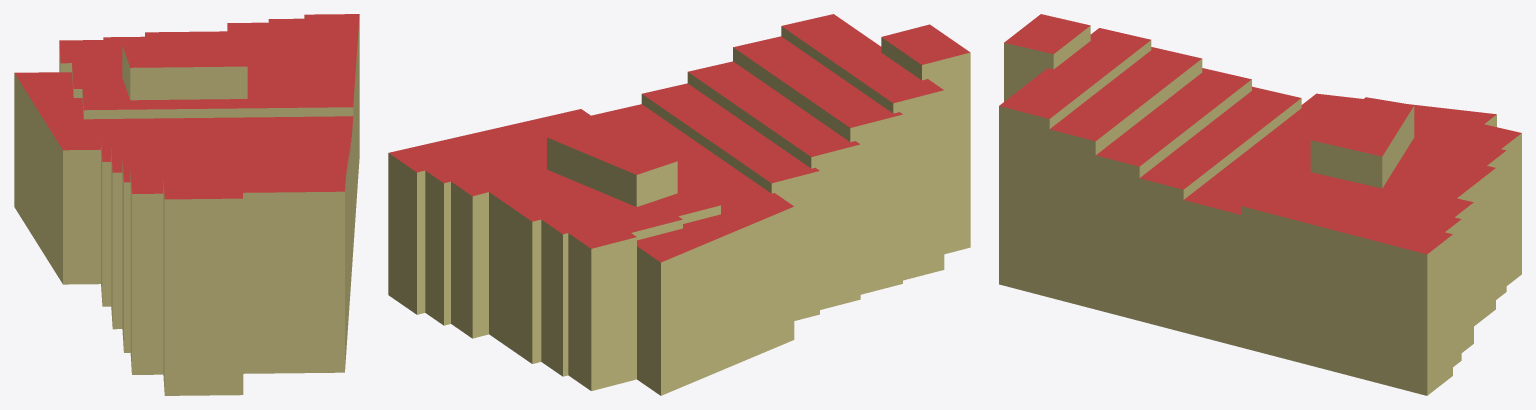
The picture shows the model from 3 angles, left to right: view 1: azimuth 30°, elevation 25°; view 2: azimuth 150°, elevation 25°; view 3: azimuth 270°, elevation 25°; orthographic projection.
Parts seen in each view (by area): view 1: group_18, group_3, group_9, group_24, group_23, group_5, group_17, group_6, group_4, group_11, group_20, group_15 (+4 smaller); view 2: group_6, group_24, group_3, group_12, group_23, group_18, group_15, group_9, group_21, group_20, group_14, group_11 (+4 smaller); view 3: group_6, group_3, group_12, group_18, group_15, group_24, group_21, group_23, group_20, group_14, group_11, group_17 (+4 smaller).
Part boxes in pixels (left/top/right/bottom): group_18: left=130, top=169, right=346, bottom=374; group_3: left=59, top=14, right=359, bottom=110; group_9: left=163, top=179, right=243, bottom=395; group_24: left=14, top=73, right=353, bottom=284; group_23: left=14, top=72, right=353, bottom=150; group_5: left=122, top=46, right=247, bottom=100; group_17: left=130, top=166, right=346, bottom=193; group_6: left=59, top=15, right=359, bottom=246; group_4: left=122, top=31, right=247, bottom=67; group_11: left=122, top=153, right=348, bottom=182; group_20: left=101, top=135, right=351, bottom=161; group_15: left=111, top=149, right=349, bottom=329; group_6: left=388, top=153, right=720, bottom=390; group_24: left=637, top=207, right=794, bottom=395; group_3: left=389, top=109, right=720, bottom=248; group_12: left=733, top=47, right=902, bottom=294; group_23: left=591, top=104, right=793, bottom=262; group_18: left=781, top=26, right=944, bottom=280; group_15: left=687, top=72, right=860, bottom=309; group_9: left=881, top=37, right=970, bottom=254; group_21: left=641, top=94, right=819, bottom=320; group_20: left=642, top=83, right=819, bottom=183; group_14: left=688, top=61, right=859, bottom=156; group_11: left=733, top=36, right=902, bottom=127; group_6: left=1242, top=133, right=1521, bottom=395; group_3: left=1242, top=114, right=1521, bottom=254; group_12: left=1043, top=59, right=1202, bottom=309; group_18: left=999, top=40, right=1151, bottom=295; group_15: left=1095, top=79, right=1251, bottom=320; group_24: left=1183, top=114, right=1496, bottom=347; group_21: left=1139, top=98, right=1301, bottom=332; group_23: left=1184, top=93, right=1496, bottom=214; group_20: left=1140, top=86, right=1300, bottom=189; group_14: left=1096, top=68, right=1251, bottom=166; group_11: left=1050, top=47, right=1201, bottom=141; group_17: left=999, top=28, right=1150, bottom=118.
Bounding box in the file's own units: 27.01 × 31.48 × 12.88.
